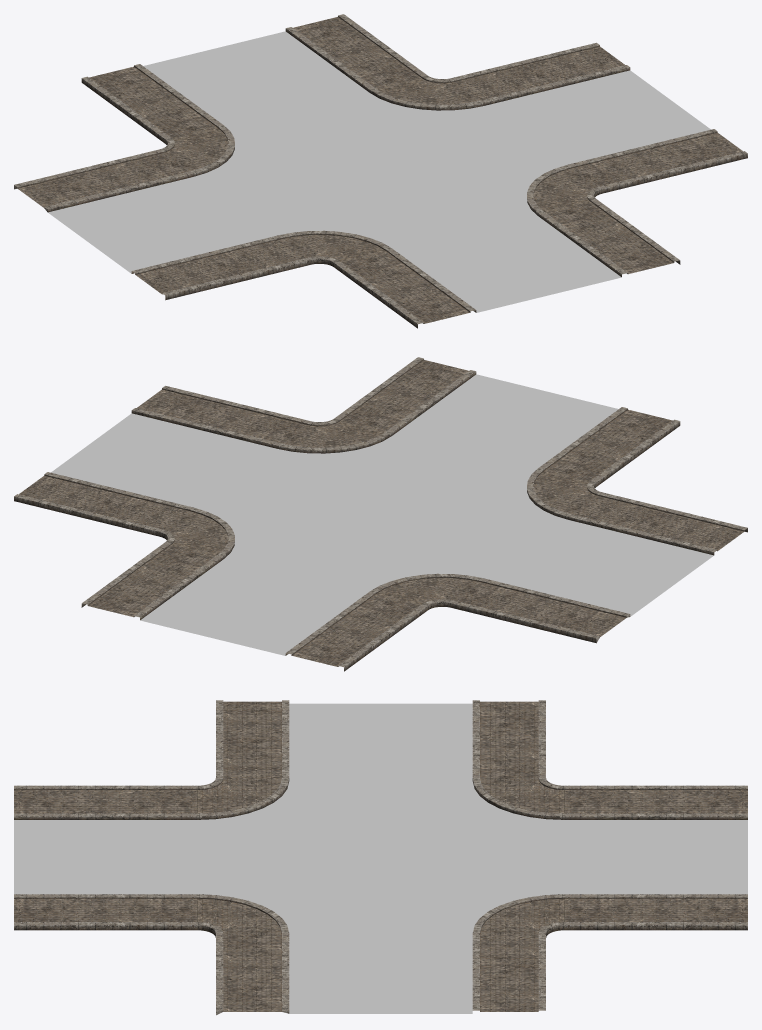
File: Road9.fbx
3 renders of one model, top to bottom at view 1: azimuth 30°, elevation 25°; view 2: azimuth 150°, elevation 25°; view 3: azimuth 270°, elevation 25°, orthographic. The views are drawn at different scales.
Visible parts, largest first — view 1: polySurface60; view 2: polySurface60; view 3: polySurface60.
Boxes of the visible parts, <box> form: polySurface60: <box>14,14,747,328</box>; polySurface60: <box>14,357,747,671</box>; polySurface60: <box>14,700,747,1015</box>.
Size of the model in its own units: 20 by 0.1527 by 20.
